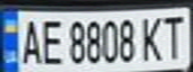0: (100, 16, 121, 64)
8: (63, 16, 87, 65), (118, 15, 139, 64), (84, 16, 103, 65)
A: (15, 15, 45, 66)
E: (36, 16, 66, 65)
K: (136, 12, 166, 62)
T: (157, 11, 187, 61)
